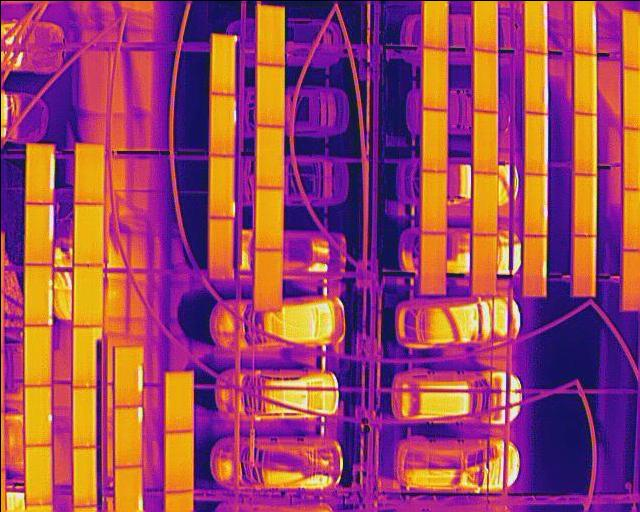Cell: (23, 385, 52, 445)
No-Anomaly: (163, 368, 194, 432), (254, 186, 283, 252), (71, 263, 101, 326), (253, 248, 282, 312), (72, 202, 101, 265), (163, 430, 192, 493), (256, 123, 284, 187), (21, 324, 50, 385), (74, 142, 103, 201), (471, 110, 498, 173), (256, 62, 283, 125), (470, 171, 496, 236), (420, 106, 446, 171), (24, 444, 52, 503), (469, 233, 496, 294), (256, 3, 283, 64), (418, 231, 444, 294), (419, 171, 446, 231), (208, 218, 233, 281), (471, 48, 496, 111), (571, 173, 595, 234), (71, 385, 95, 446), (210, 34, 235, 92), (72, 444, 95, 507), (423, 48, 447, 108), (573, 112, 596, 174), (72, 326, 96, 385), (572, 235, 595, 296), (572, 53, 595, 114), (473, 0, 496, 50), (422, 0, 445, 48)
Unclassified: (23, 263, 52, 326), (22, 204, 52, 263), (24, 143, 54, 202), (113, 343, 141, 406), (208, 93, 236, 156), (114, 404, 141, 468), (207, 155, 234, 218), (522, 232, 547, 295), (522, 172, 547, 234), (523, 112, 547, 173), (525, 49, 546, 112), (572, 0, 595, 53), (526, 0, 546, 52)
